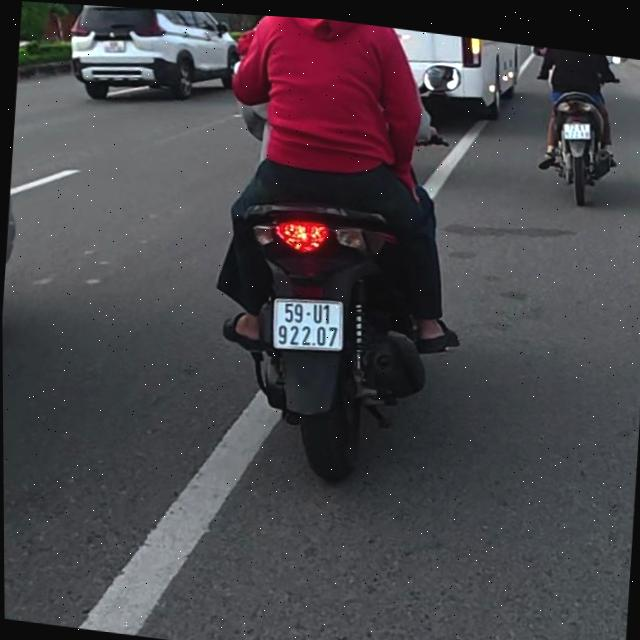car: (60, 4, 240, 124)
motorcycle: (219, 188, 443, 504), (536, 87, 619, 211)
plate: (263, 290, 348, 357), (557, 113, 592, 145), (99, 33, 128, 57)
